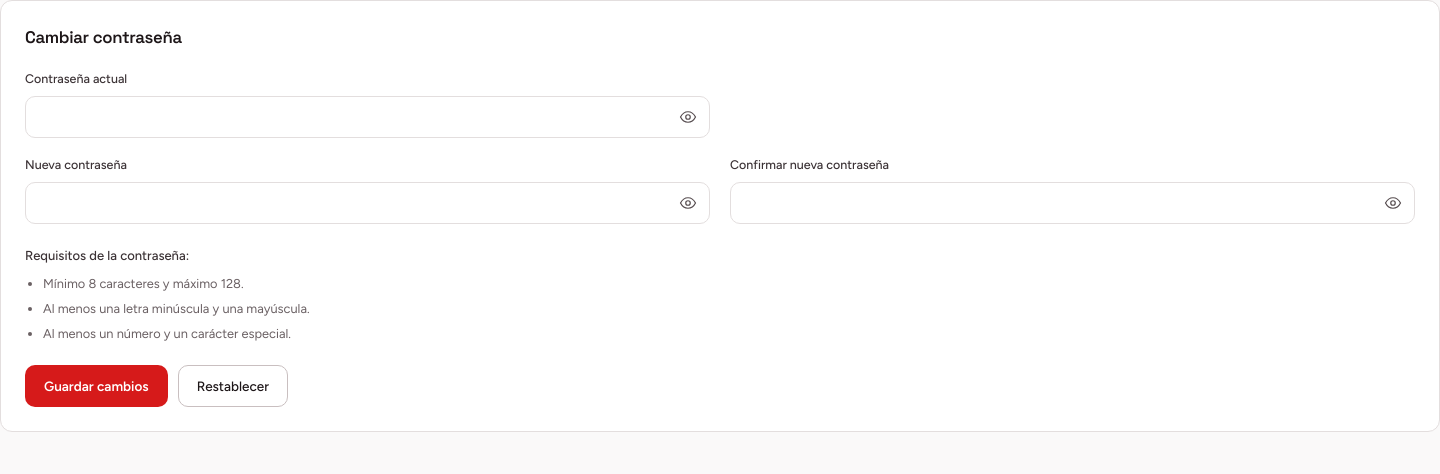
Scenario: ChangePasswordForm › rejects a password without uppercase and explains the policy
The width and height of the screenshot is (1440, 474).
Type "Current1!" into the password field labelled "Contraseña actual".
click(368, 117); type("Current1!")  # box top-left (25, 96), bottom-right (710, 138)
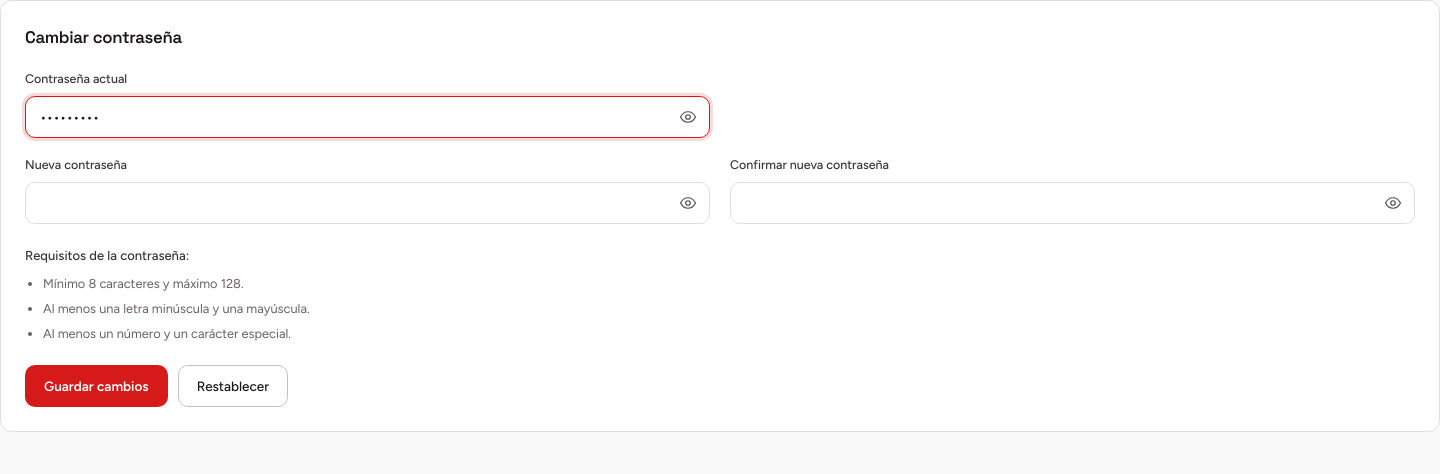
Type "abc123!@#" into the password field labelled "Nueva contraseña".
click(368, 203); type("abc123!@#")  # box top-left (25, 182), bottom-right (710, 224)
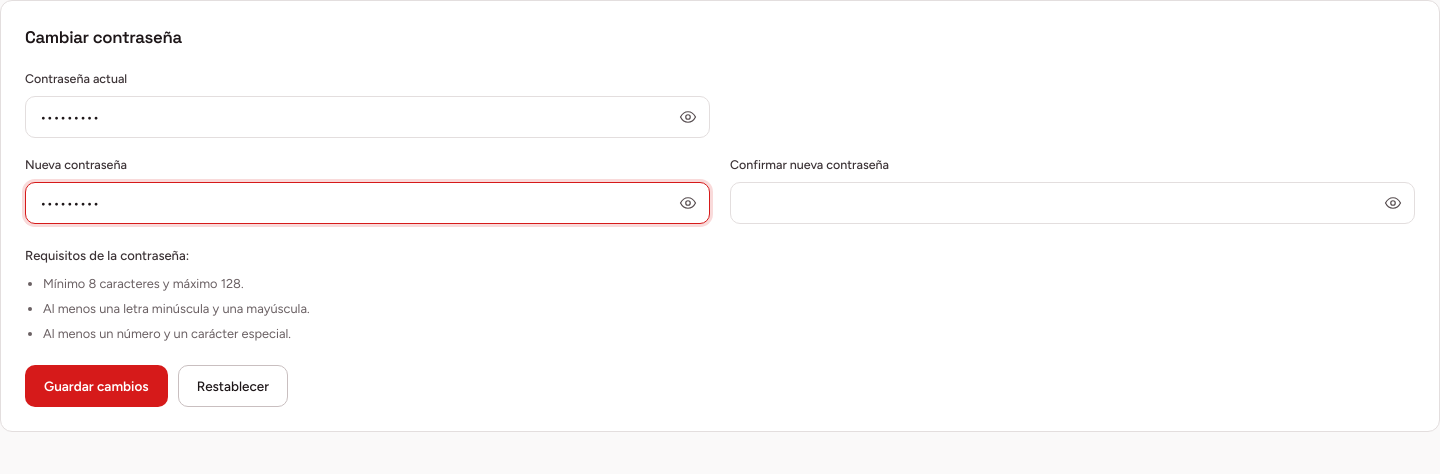
Type "abc123!@#" into the password field labelled "Confirmar nueva contraseña".
click(1072, 203); type("abc123!@#")  # box top-left (730, 182), bottom-right (1415, 224)
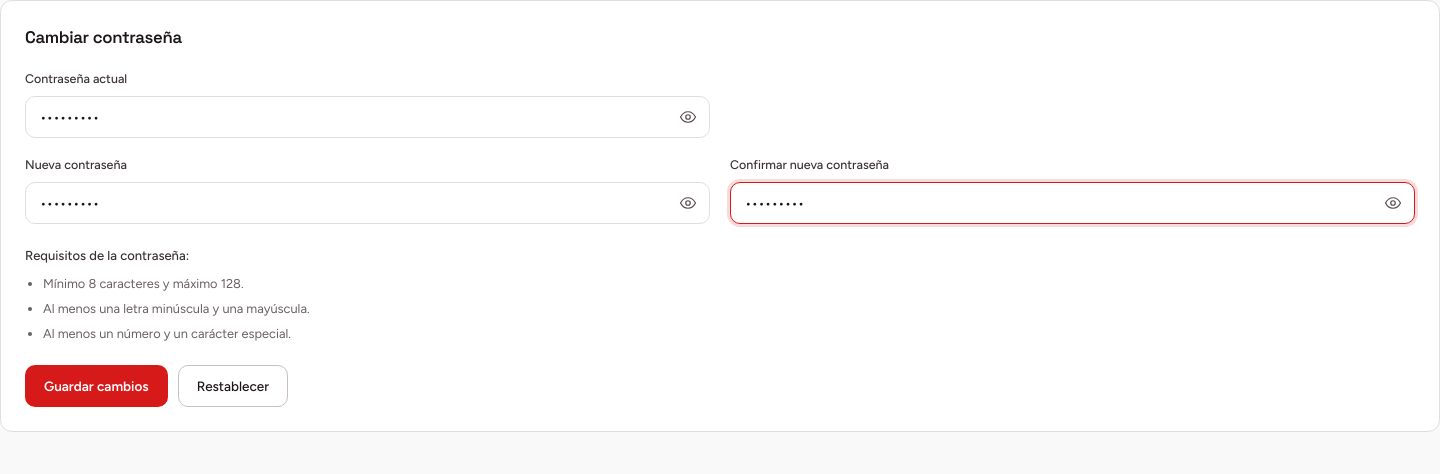
Click the button "Guardar cambios".
click(96, 386)  # box top-left (25, 365), bottom-right (168, 407)
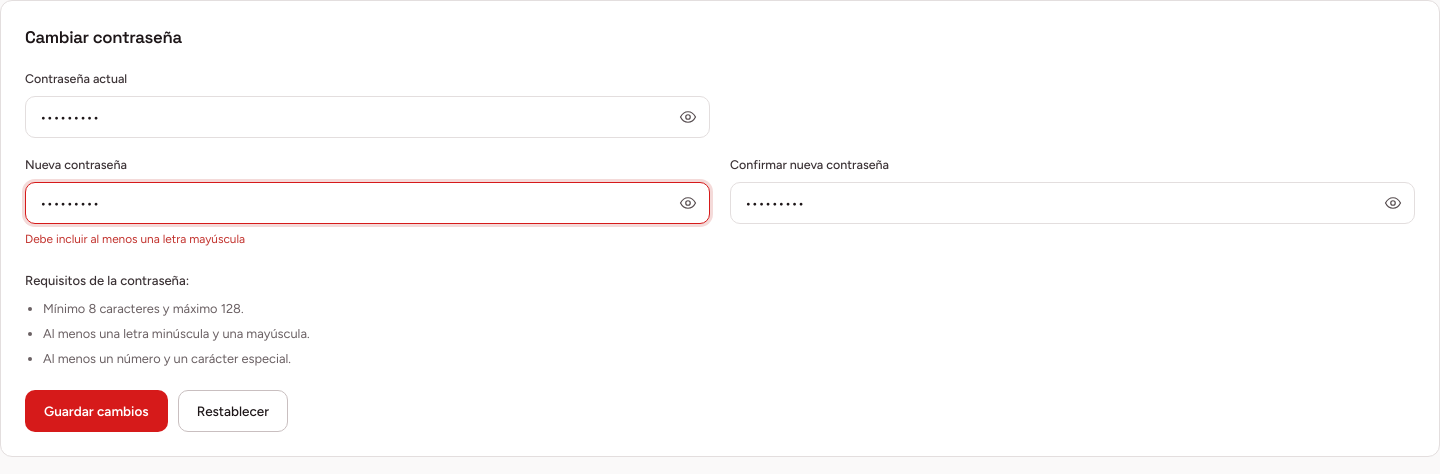
Check: the text "Debe incluir al menos una letra mayúscula" is shown, box top-left (25, 232), bottom-right (245, 246)
